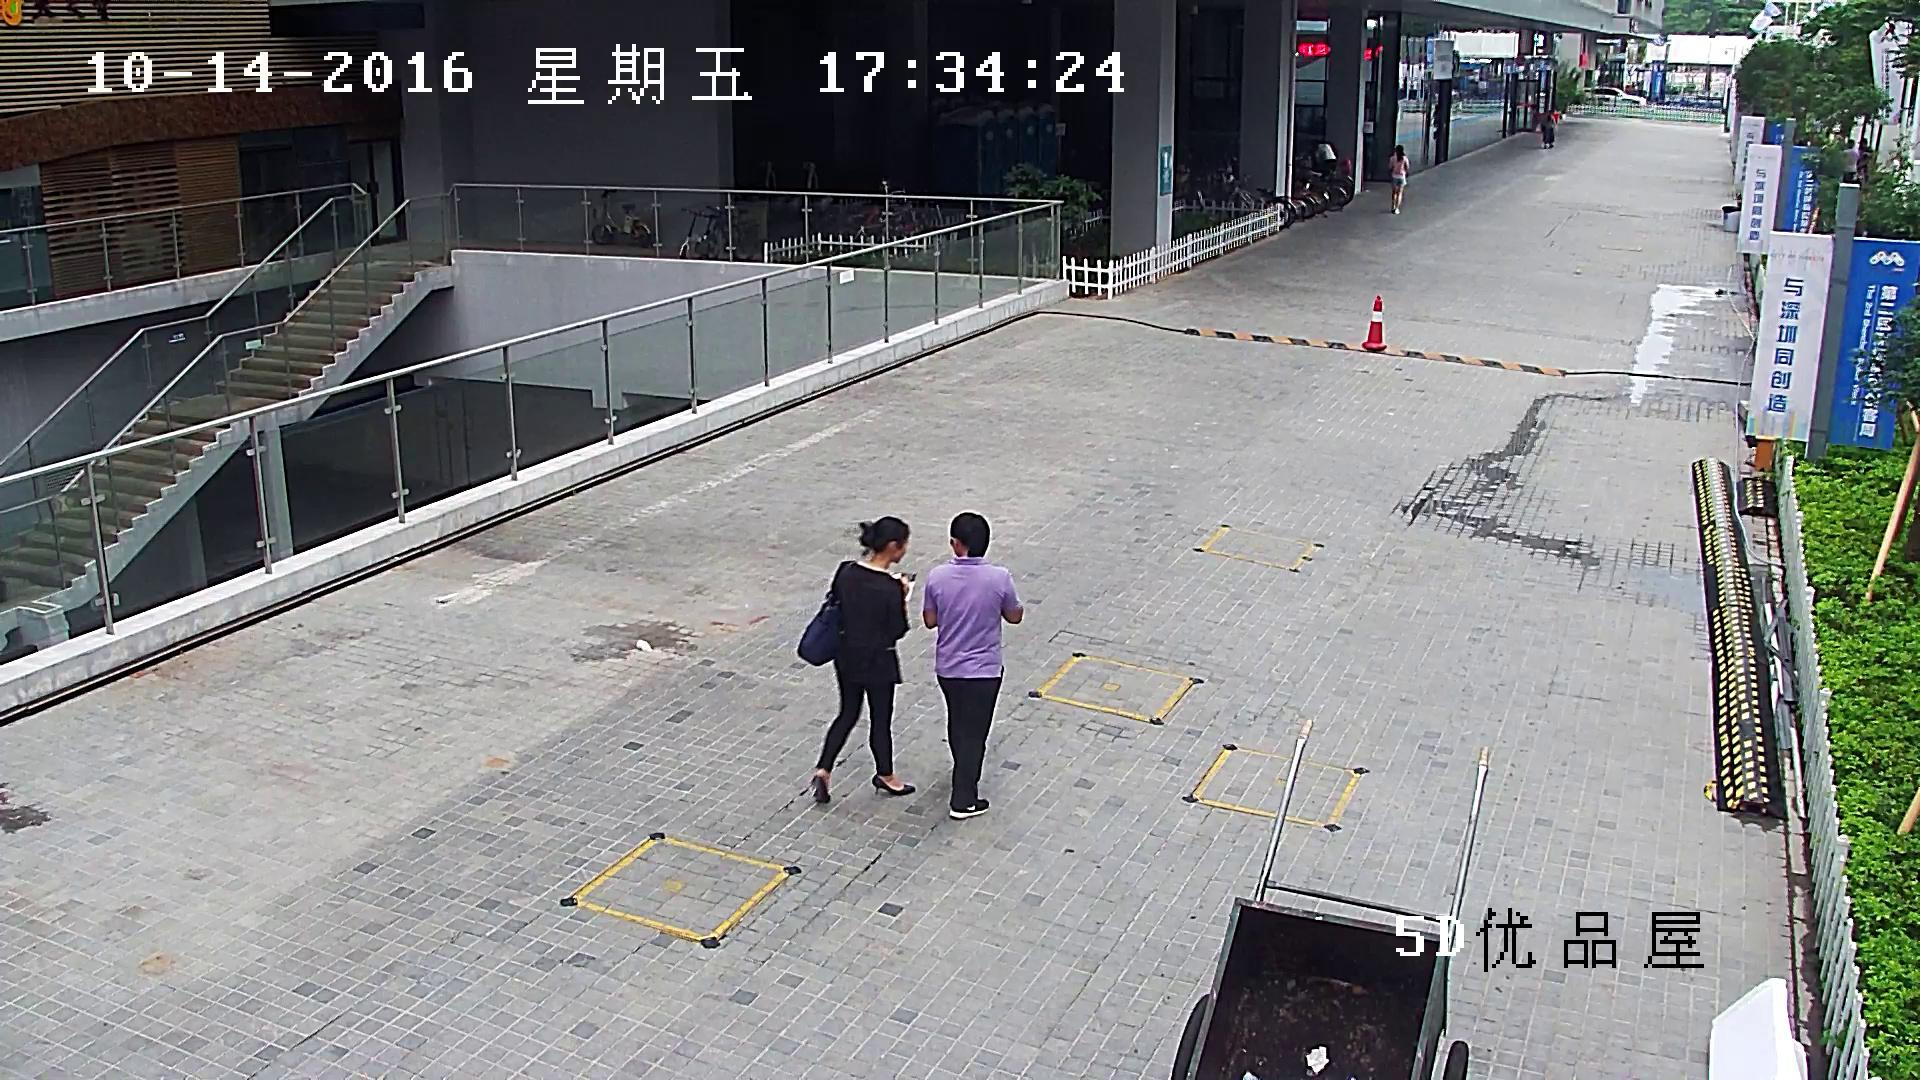person: (797, 516, 915, 802), (923, 513, 1024, 819), (1387, 145, 1409, 214), (1856, 138, 1872, 182), (1842, 139, 1858, 183), (1317, 144, 1337, 170), (1542, 114, 1555, 149), (1552, 108, 1560, 136)
